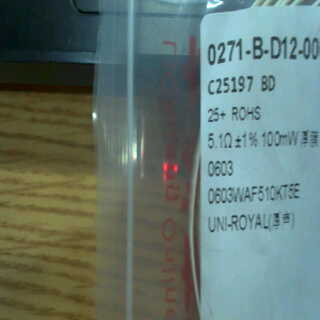5.1R: (205, 128, 236, 150)
